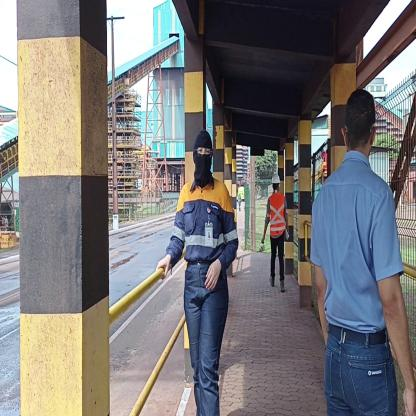Balaclava: (191, 125, 213, 186)
Capacete: (272, 173, 280, 185)
Operacional: (164, 180, 240, 262)
colete: (269, 192, 286, 239)
